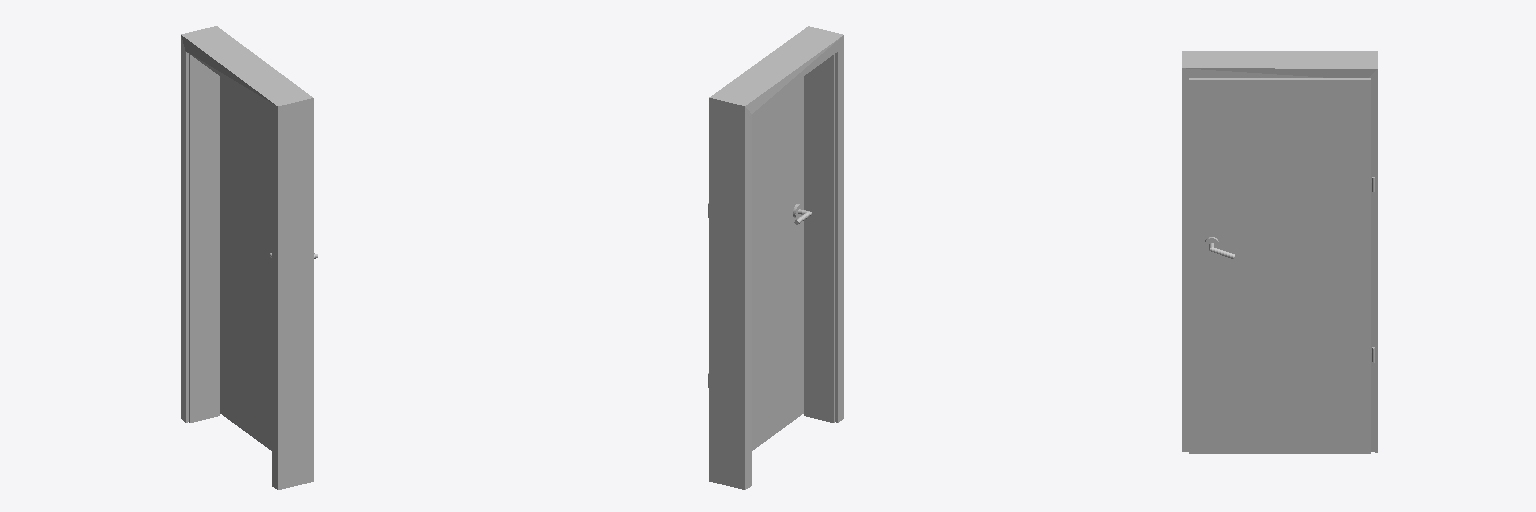
Rendered from door77.obj.
The picture shows the model from 3 angles: view 1: azimuth 30°, elevation 25°; view 2: azimuth 150°, elevation 25°; view 3: azimuth 270°, elevation 25°; orthographic projection.
Parts seen in each view (by area): view 1: Cylinder.005, Cylinder.001; view 2: Cylinder.005, Cylinder.001; view 3: Cylinder.001, Cylinder.005.
Boxes of the visible parts, x1=… form: Cylinder.005: x1=181, y1=26, x2=313, y2=489; Cylinder.001: x1=220, y1=77, x2=271, y2=450; Cylinder.005: x1=708, y1=26, x2=843, y2=489; Cylinder.001: x1=708, y1=77, x2=803, y2=450; Cylinder.001: x1=1189, y1=78, x2=1374, y2=453; Cylinder.005: x1=1182, y1=51, x2=1377, y2=452.
Bounding box in the file's own units: 0.3039 × 2.05 × 0.95.